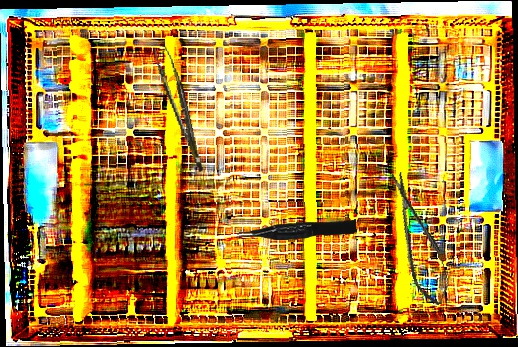Micro Scissor: (384, 167, 454, 310)
Tissue Forceps: (153, 43, 204, 176), (236, 219, 357, 241)
